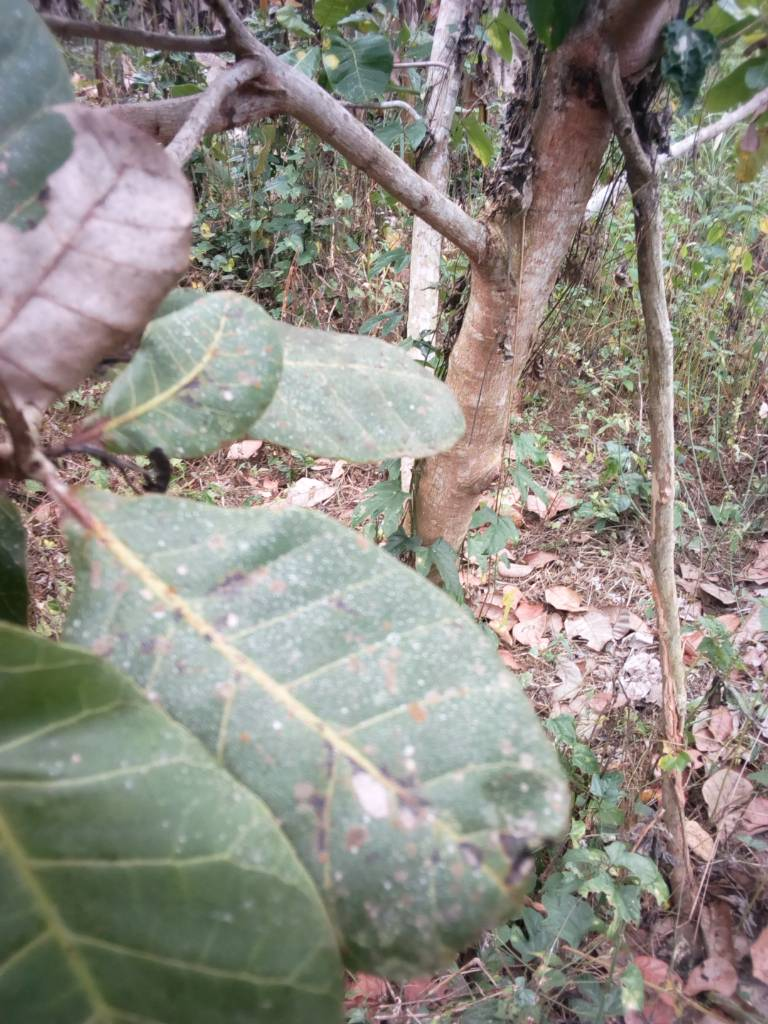Rouille: (79, 497, 594, 975), (60, 285, 311, 486)
